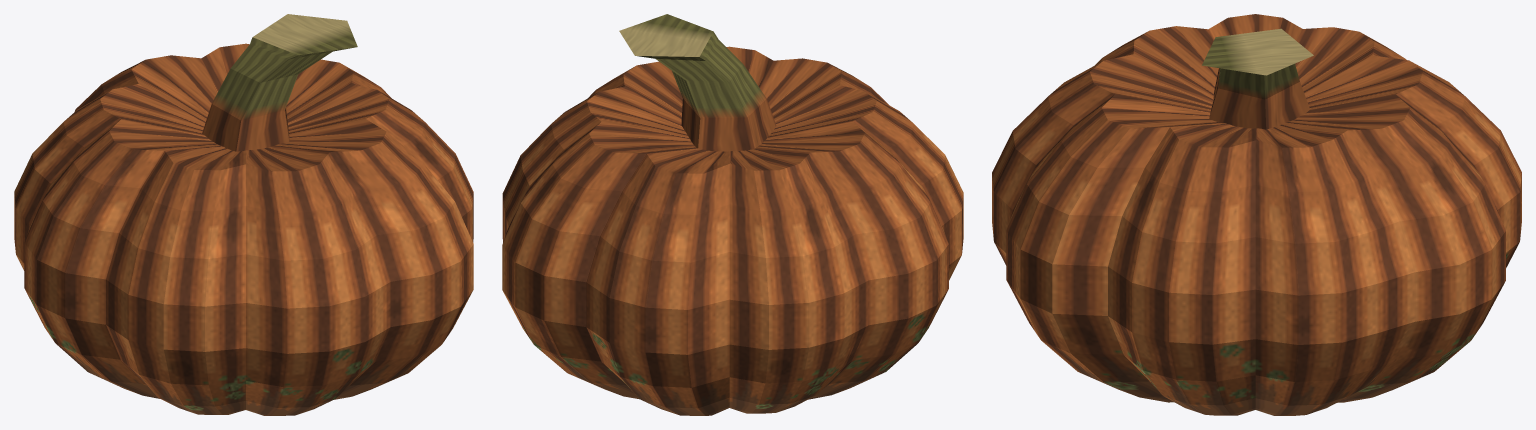
File: SM_Pumpkin_A.fbx
The picture shows the model from 3 angles, left to right: view 1: azimuth 30°, elevation 25°; view 2: azimuth 150°, elevation 25°; view 3: azimuth 270°, elevation 25°; orthographic projection. The views are drawn at different scales.
Visible parts, largest first — view 1: SM_Pumpkin_A; view 2: SM_Pumpkin_A; view 3: SM_Pumpkin_A.
Part boxes in pixels (left/top/right/bottom): SM_Pumpkin_A: left=14, top=14, right=473, bottom=415; SM_Pumpkin_A: left=502, top=14, right=963, bottom=415; SM_Pumpkin_A: left=992, top=14, right=1521, bottom=415.
Size of the model in its own units: 0.9524 by 0.73 by 0.9937.
Materials: 1 (1 with a texture image).
